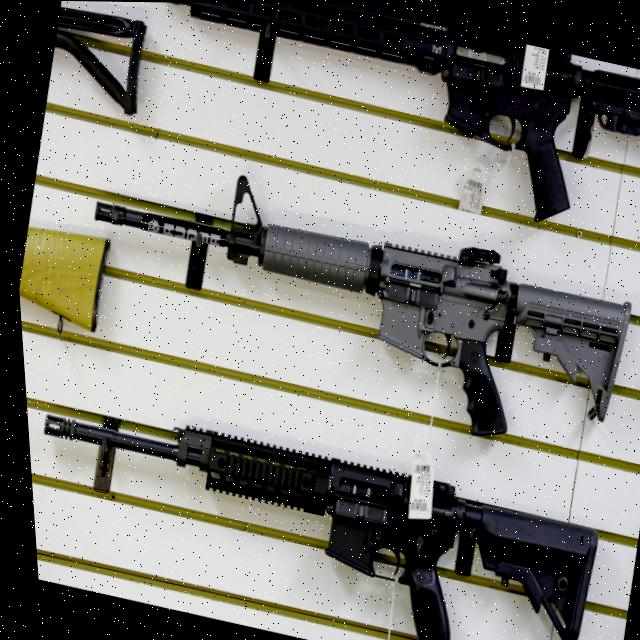firearm: (58, 139, 640, 465), (20, 386, 601, 640), (129, 2, 640, 249)
